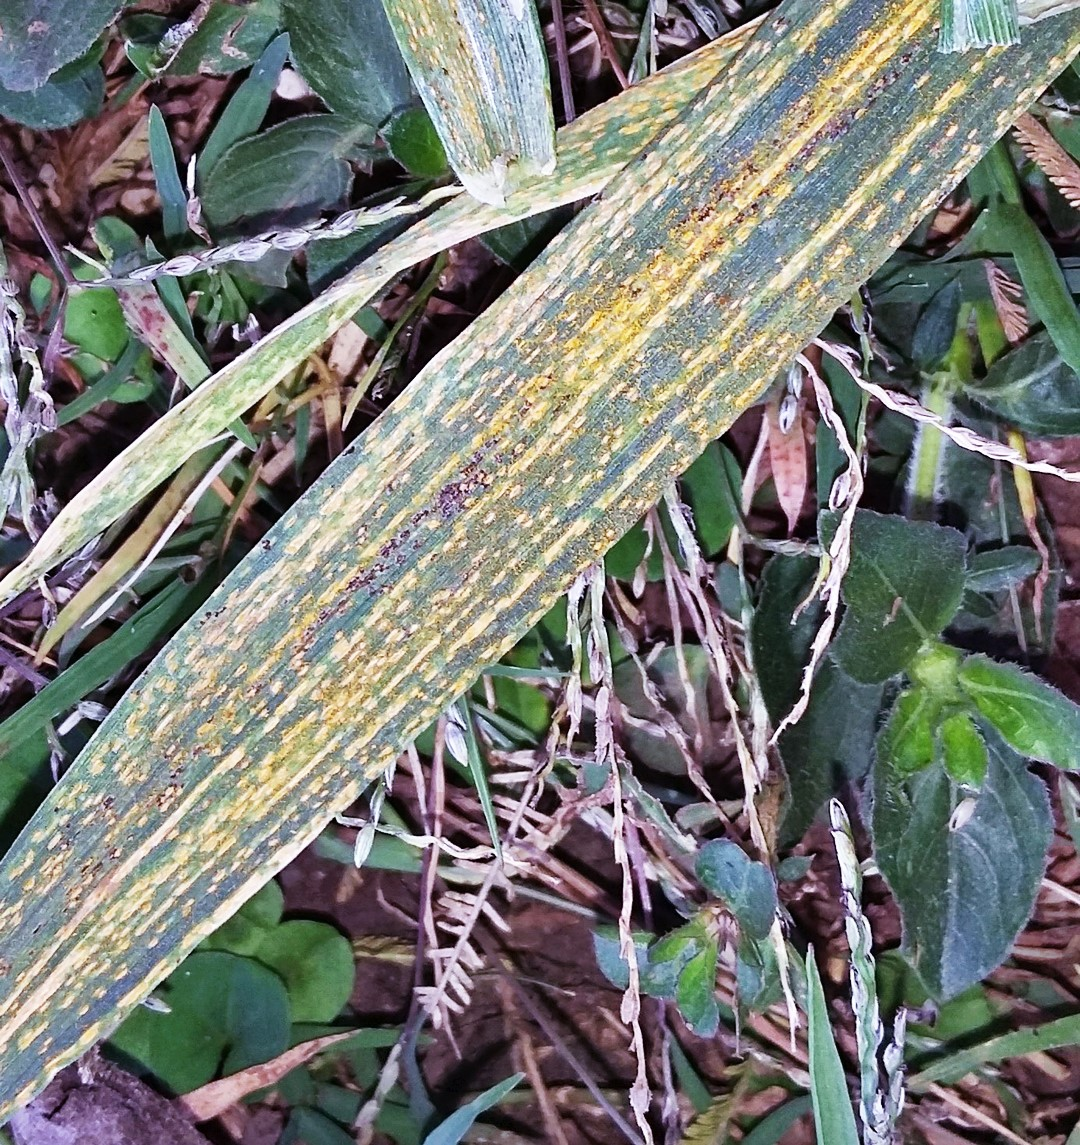Leaf Rust: (161, 160, 875, 870)
